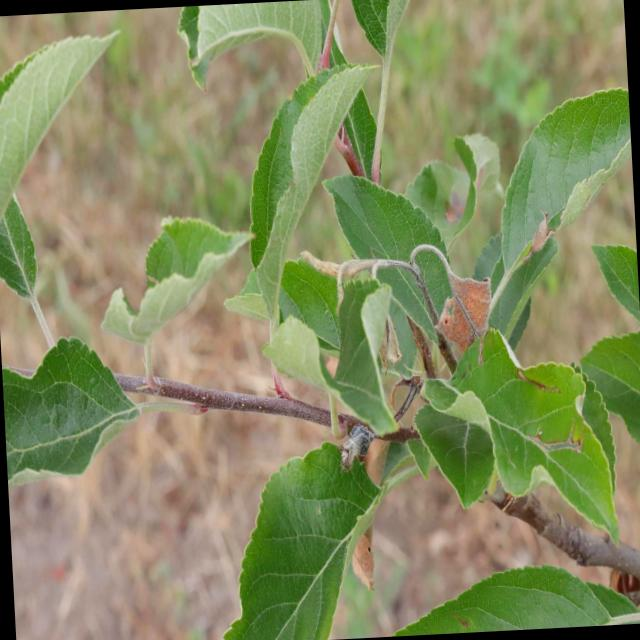-FireBlight-: (428, 274, 492, 356)
